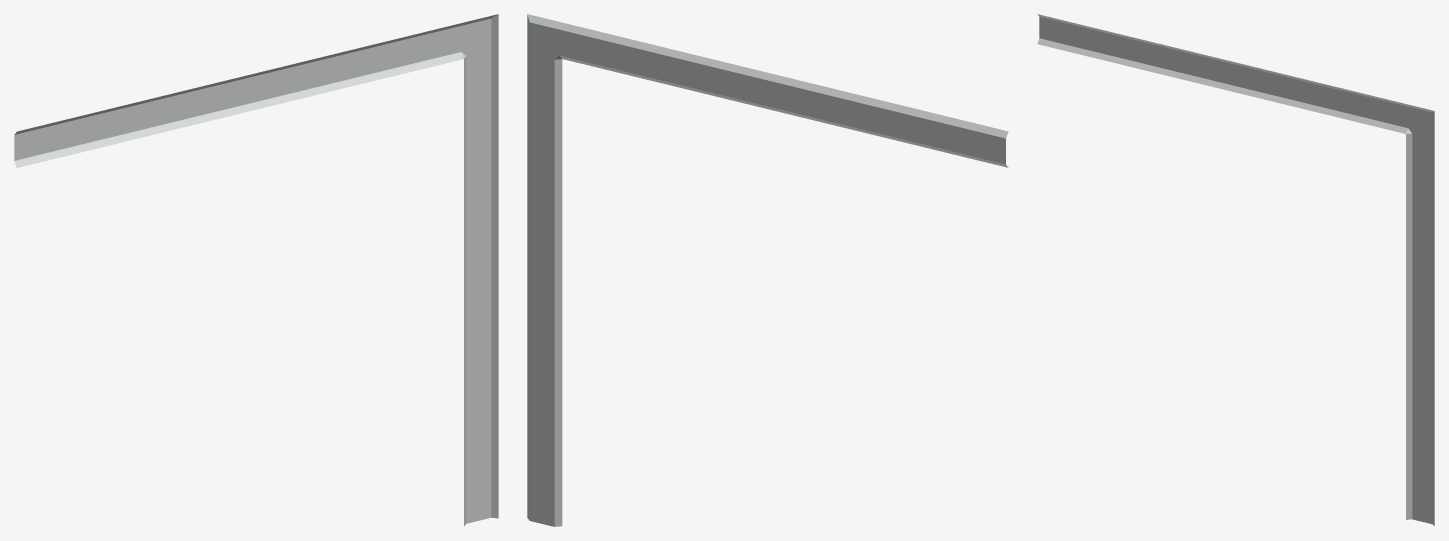
Rendered from Road Side Corner 01.FBX.
3 views of the same model, side by side, from view 1: azimuth 30°, elevation 25°; view 2: azimuth 150°, elevation 25°; view 3: azimuth 330°, elevation 25° (orthographic). The views are drawn at different scales.
Parts seen in each view (by area): view 1: Road Side Corner 01; view 2: Road Side Corner 01; view 3: Road Side Corner 01.
Part boxes in pixels (x1=…): Road Side Corner 01: x1=14, y1=14, x2=498, y2=526; Road Side Corner 01: x1=527, y1=14, x2=1008, y2=526; Road Side Corner 01: x1=1037, y1=14, x2=1434, y2=526.
Size of the model in its own units: 519 by 519 by 4.84.
Materials: 1 (1 with a texture image).
